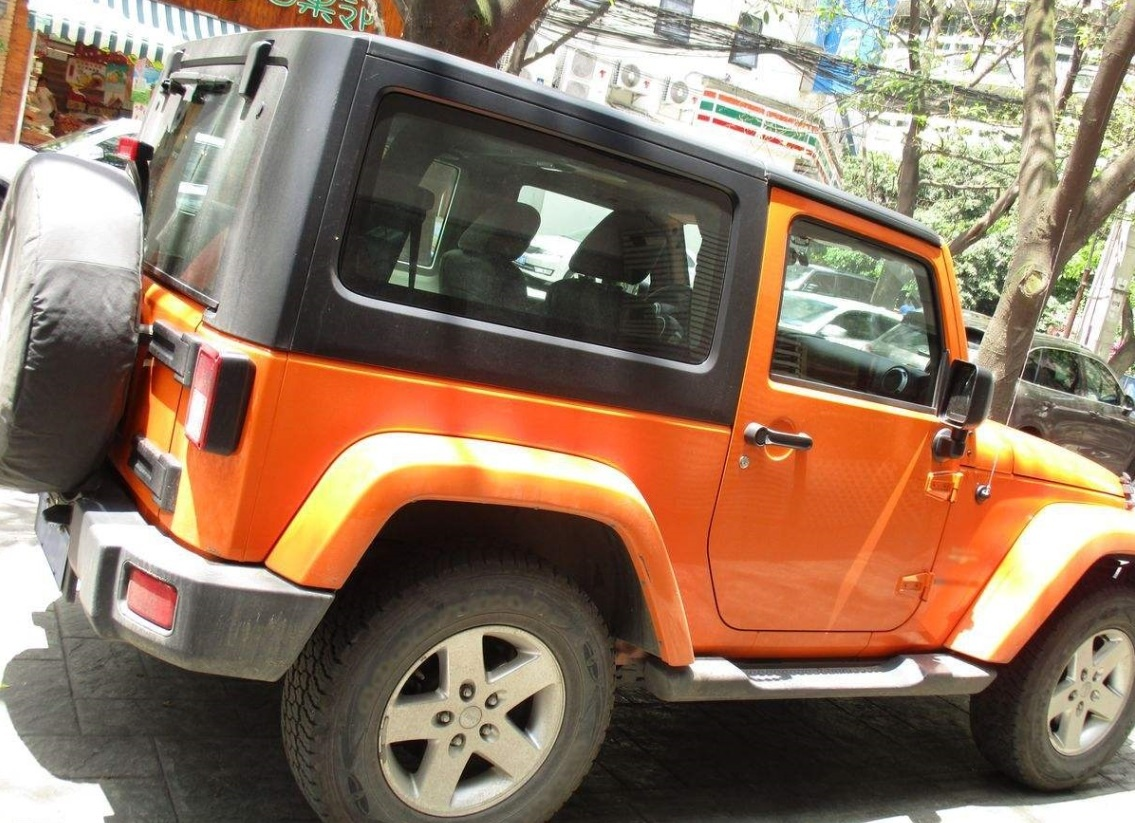jeep: (11, 13, 1126, 823)
